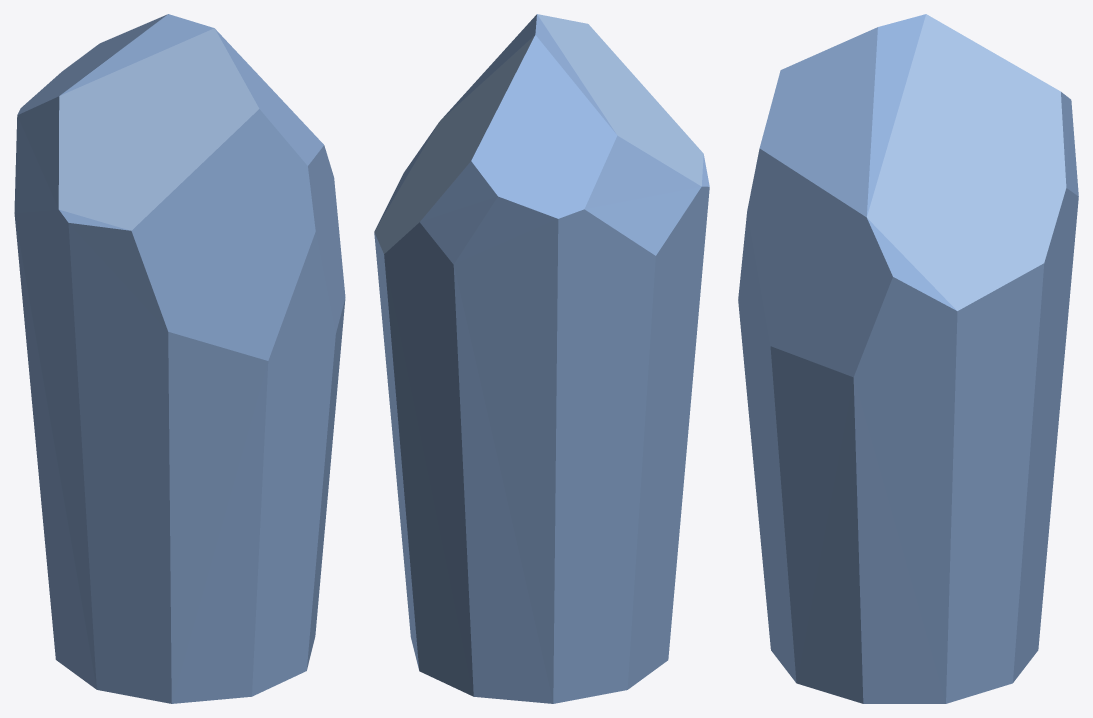
Rendered from crystal_9.fbx.
3 views of the same model, side by side, from view 1: azimuth 30°, elevation 25°; view 2: azimuth 150°, elevation 25°; view 3: azimuth 270°, elevation 25° (orthographic).
Visible parts, largest first — view 1: crystal_9; view 2: crystal_9; view 3: crystal_9.
Boxes of the visible parts, <box> form: crystal_9: <box>14,14,345,703</box>; crystal_9: <box>374,14,709,703</box>; crystal_9: <box>738,14,1078,703</box>.
Size of the model in its own units: 33.27 by 69.34 by 33.82.
